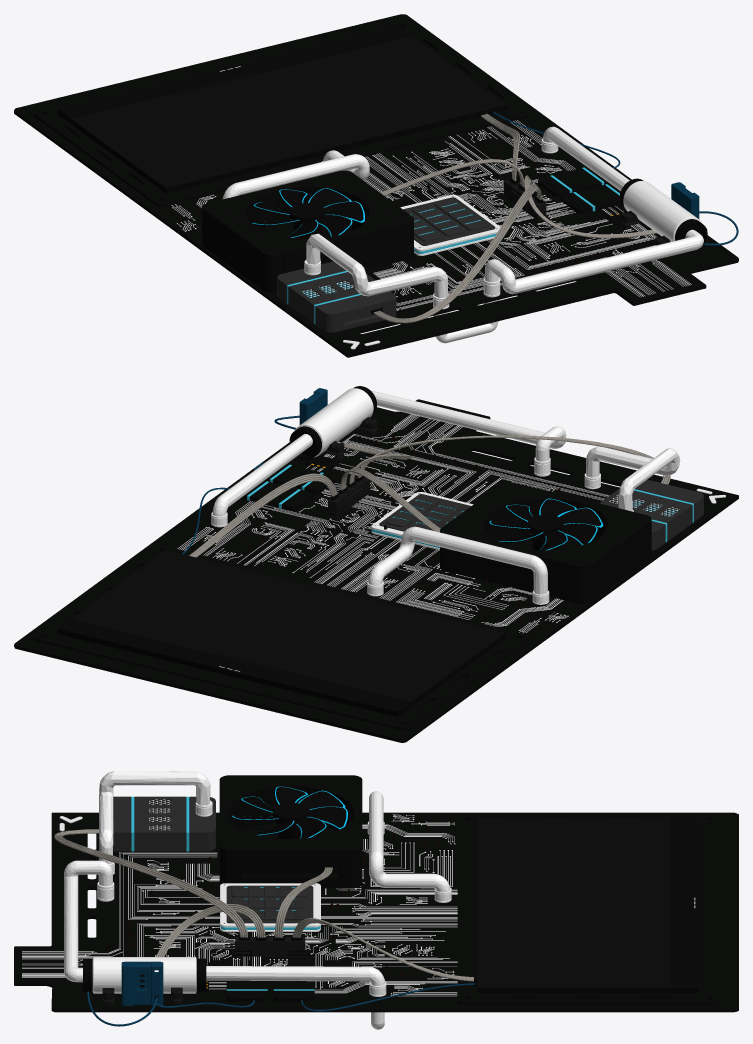
The picture shows the model from 3 angles, top to bottom: view 1: azimuth 30°, elevation 25°; view 2: azimuth 150°, elevation 25°; view 3: azimuth 270°, elevation 25°; orthographic projection. The views are drawn at different scales.
Parts seen in each view (by area): view 1: bool_obj.027.frozen, bool_obj.007.frozen, Curve.002, bool_obj.029.frozen, bool_obj.frozen, bool_obj.Slice.frozen.001, bool_obj.065.frozen.frozen, Pipe.001, Circle.001_Circle.003.frozen.frozen, bool_obj.023.frozen, Pipe.003, bool_obj.047.frozen (+11 smaller); view 2: bool_obj.027.frozen, bool_obj.007.frozen, Curve.002, bool_obj.029.frozen, bool_obj.frozen, bool_obj.Slice.frozen.001, Circle.001_Circle.003.frozen.frozen, Pipe.004, bool_obj.065.frozen.frozen, Pipe.001, bool_obj.023.frozen, Pipe.003 (+10 smaller); view 3: bool_obj.027.frozen, bool_obj.007.frozen, Curve.002, bool_obj.029.frozen, bool_obj.Slice.frozen.001, bool_obj.frozen, bool_obj.065.frozen.frozen, Circle.001_Circle.003.frozen.frozen, bool_obj.023.frozen, Pipe.003, Pipe.005, bool_obj.047.frozen (+14 smaller).
Part boxes in pixels (x1,y1,x2,y2): bool_obj.027.frozen: [14, 14, 738, 357]; bool_obj.007.frozen: [58, 26, 506, 193]; Curve.002: [171, 120, 691, 310]; bool_obj.029.frozen: [33, 21, 531, 206]; bool_obj.frozen: [214, 173, 401, 273]; bool_obj.Slice.frozen.001: [202, 170, 413, 292]; bool_obj.065.frozen.frozen: [277, 261, 396, 332]; Pipe.001: [485, 229, 703, 294]; Circle.001_Circle.003.frozen.frozen: [252, 188, 365, 238]; bool_obj.023.frozen: [619, 178, 707, 252]; Pipe.003: [306, 233, 448, 297]; bool_obj.047.frozen: [403, 197, 495, 245]; bool_obj.027.frozen: [14, 399, 738, 742]; bool_obj.007.frozen: [57, 550, 505, 716]; Curve.002: [177, 414, 609, 633]; bool_obj.029.frozen: [33, 545, 530, 730]; bool_obj.frozen: [452, 484, 638, 601]; bool_obj.Slice.frozen.001: [440, 482, 651, 603]; Circle.001_Circle.003.frozen.frozen: [489, 498, 603, 550]; Pipe.004: [368, 526, 547, 594]; bool_obj.065.frozen.frozen: [599, 479, 703, 550]; Pipe.001: [371, 391, 566, 461]; bool_obj.023.frozen: [289, 386, 376, 459]; Pipe.003: [586, 446, 680, 511]; bool_obj.027.frozen: [14, 812, 738, 1012]; bool_obj.007.frozen: [477, 817, 698, 993]; Curve.002: [22, 814, 457, 996]; bool_obj.029.frozen: [457, 815, 718, 1004]; bool_obj.Slice.frozen.001: [219, 775, 362, 888]; bool_obj.frozen: [219, 783, 362, 842]; bool_obj.065.frozen.frozen: [113, 796, 215, 851]; Circle.001_Circle.003.frozen.frozen: [231, 786, 348, 839]; bool_obj.023.frozen: [83, 957, 206, 993]; Pipe.003: [99, 771, 210, 863]; Pipe.005: [206, 966, 385, 985]; bool_obj.047.frozen: [226, 885, 313, 923].
Size of the model in its own units: 9.93 by 2.16 by 14.32.
